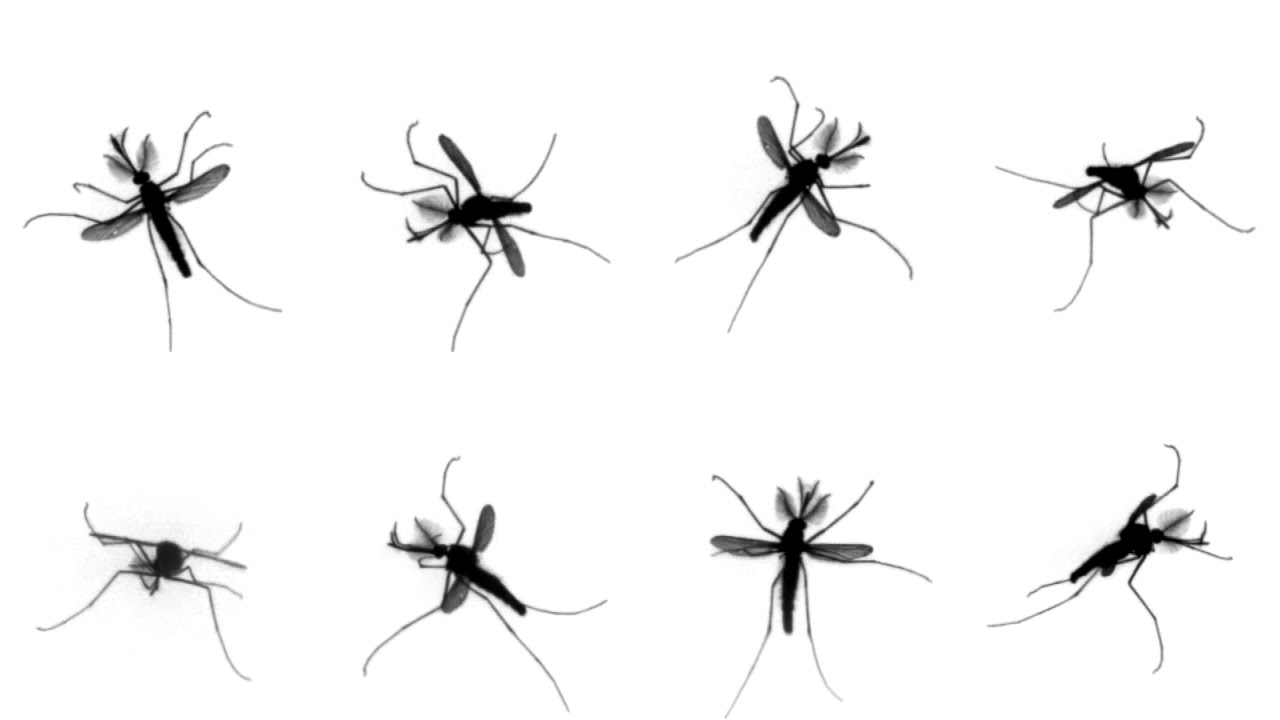insect: (668, 79, 920, 321), (348, 469, 613, 691), (30, 111, 277, 349), (982, 443, 1221, 672), (998, 116, 1257, 315), (356, 124, 580, 352), (687, 476, 903, 697), (40, 489, 248, 678)
